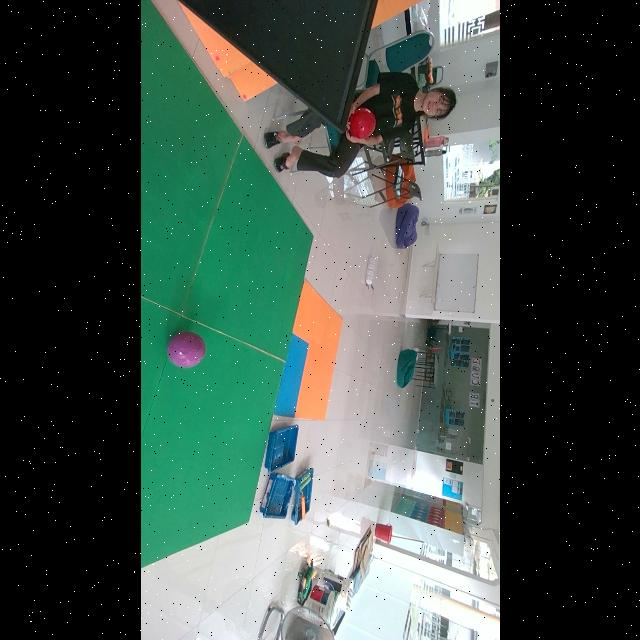P: (167, 331, 205, 367)
R: (349, 108, 376, 138)
